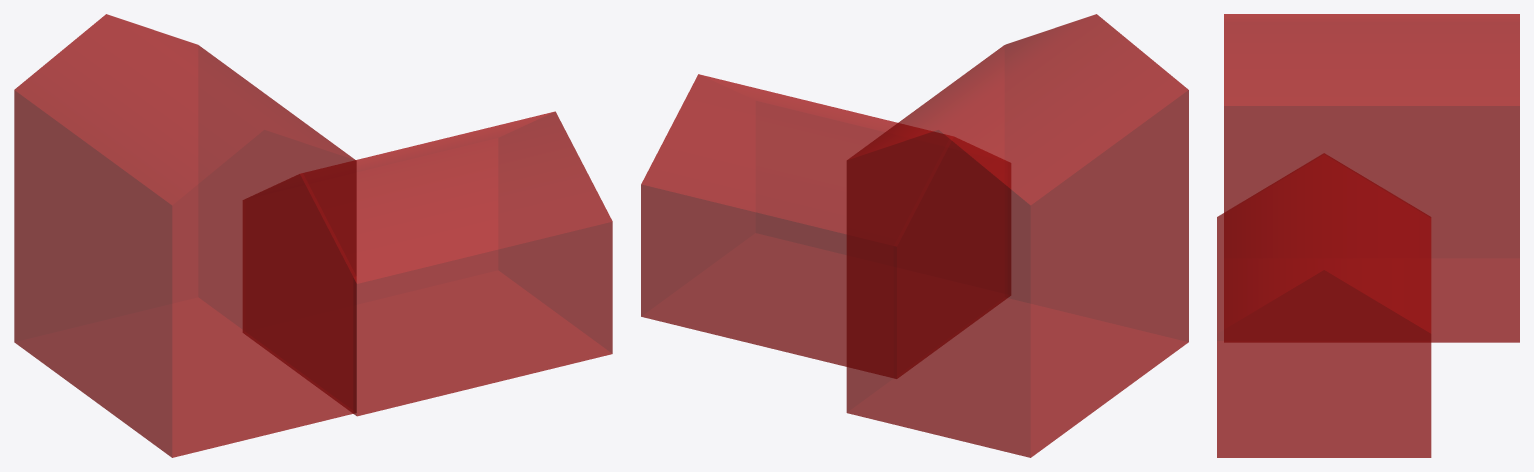
File: SM_Bld_House_Preset_10_COLLISION.fbx
3 renders of one model, left to right at view 1: azimuth 30°, elevation 25°; view 2: azimuth 150°, elevation 25°; view 3: azimuth 270°, elevation 25°, orthographic. The views are drawn at different scales.
Visible parts, largest first — view 1: SM_Bld_House_Preset_10_COLLISION; view 2: SM_Bld_House_Preset_10_COLLISION; view 3: SM_Bld_House_Preset_10_COLLISION.
Part boxes in pixels (left/top/right/bottom): SM_Bld_House_Preset_10_COLLISION: left=14, top=14, right=612, bottom=457; SM_Bld_House_Preset_10_COLLISION: left=641, top=14, right=1188, bottom=457; SM_Bld_House_Preset_10_COLLISION: left=1217, top=14, right=1519, bottom=457.
Bounding box in the file's own units: 1298 × 868 × 832.
